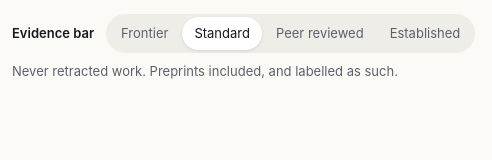
Test: the rigour bar › offers four levels, explains the chosen one and remembers it
The image size is (492, 160).
Click the button "Peer reviewed" at (320, 34), box [264,17,376,50]
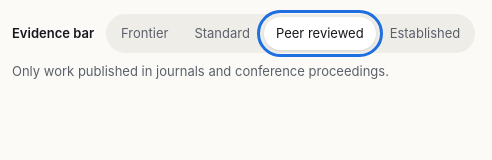
Check: the text "Only work published in journals and conference proceedings." is shown, box [12,63,389,79]
